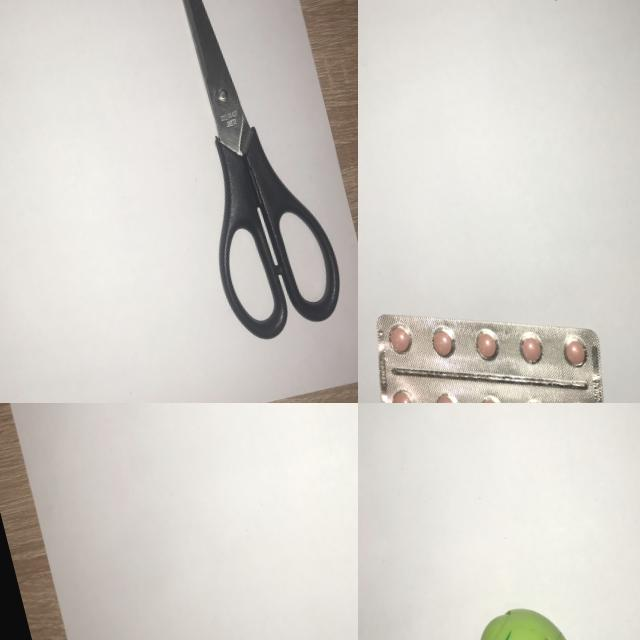scissors: (126, 0, 356, 359)
tablets: (358, 254, 636, 403)
toy: (453, 585, 602, 640)
